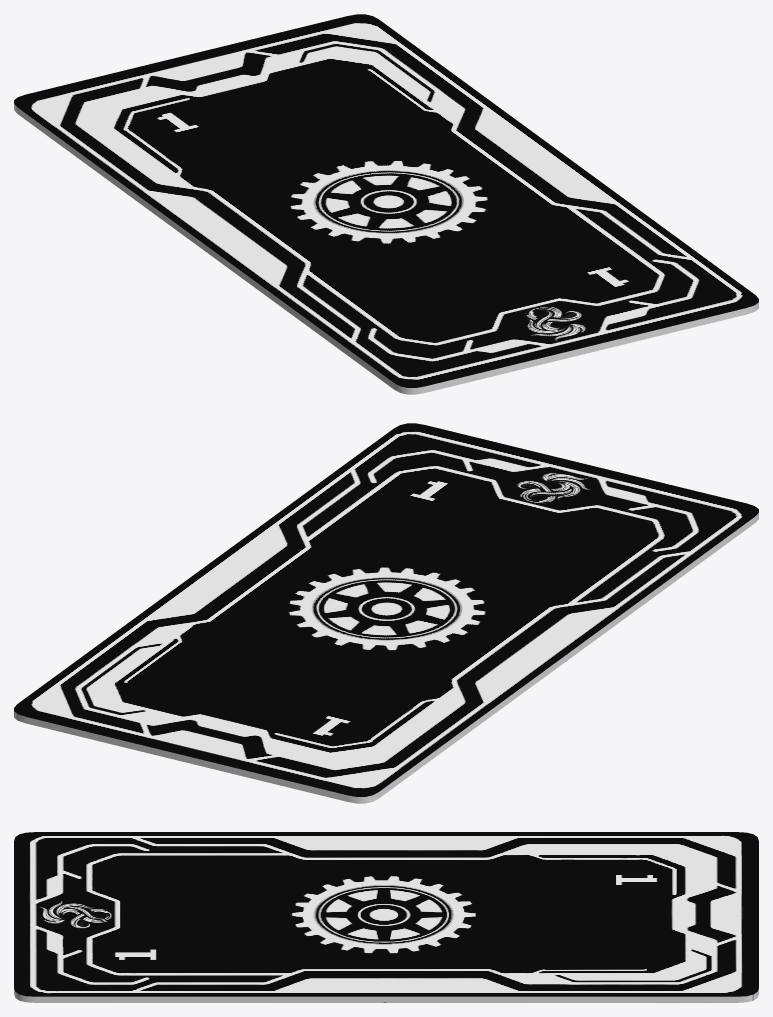
Rendered from dealer_item_Card.fbx.
3 views of the same model, one above another, from view 1: azimuth 30°, elevation 25°; view 2: azimuth 150°, elevation 25°; view 3: azimuth 270°, elevation 25° (orthographic). The views are drawn at different scales.
Parts seen in each view (by area): view 1: Box001; view 2: Box001; view 3: Box001.
Part boxes in pixels (left/top/right/bottom): Box001: left=14, top=14, right=758, bottom=394; Box001: left=14, top=423, right=758, bottom=803; Box001: left=14, top=832, right=758, bottom=1002.
Bounding box in the file's own units: 14.04 × 0.2451 × 26.85.
